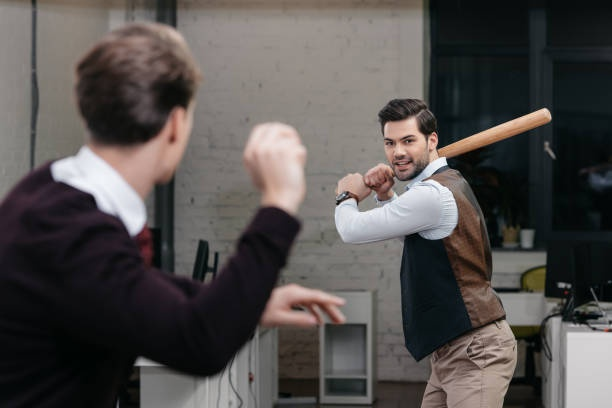bita: (435, 107, 552, 157)
